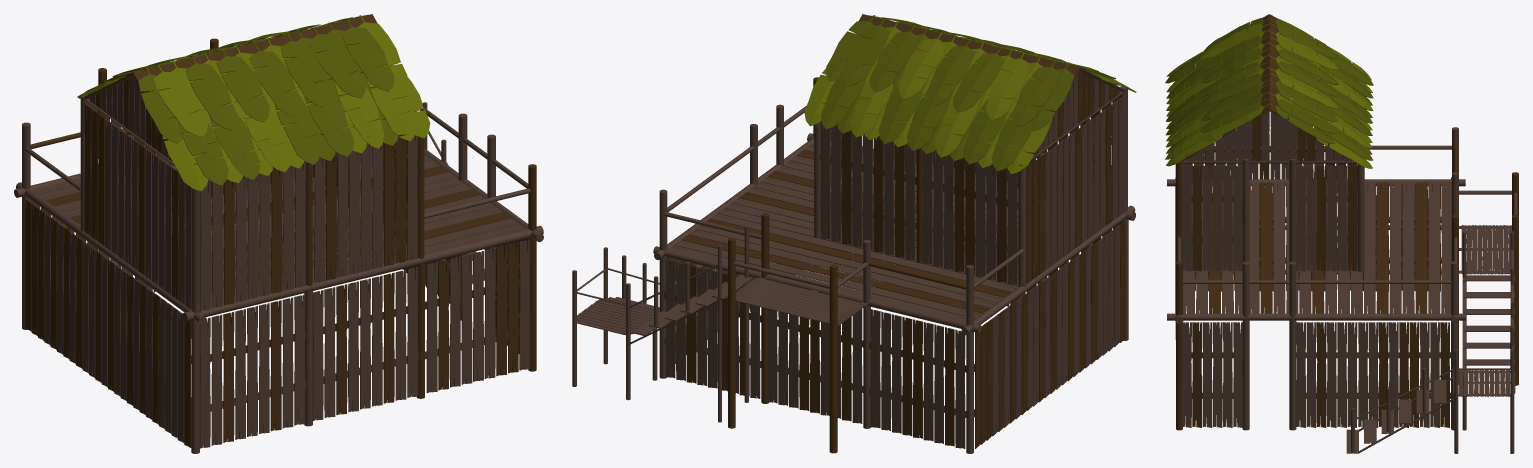
File: House3.fbx
The picture shows the model from 3 angles, left to right: view 1: azimuth 30°, elevation 25°; view 2: azimuth 150°, elevation 25°; view 3: azimuth 270°, elevation 25°; orthographic projection. The views are drawn at different scales.
Visible parts, largest first — view 1: Home.002; view 2: Home.002; view 3: Home.002.
Part boxes in pixels (left/top/right/bottom): Home.002: left=14, top=14, right=543, bottom=453; Home.002: left=572, top=14, right=1136, bottom=453; Home.002: left=1165, top=14, right=1518, bottom=453.
Bounding box in the file's own units: 2504 × 1965 × 2256.
